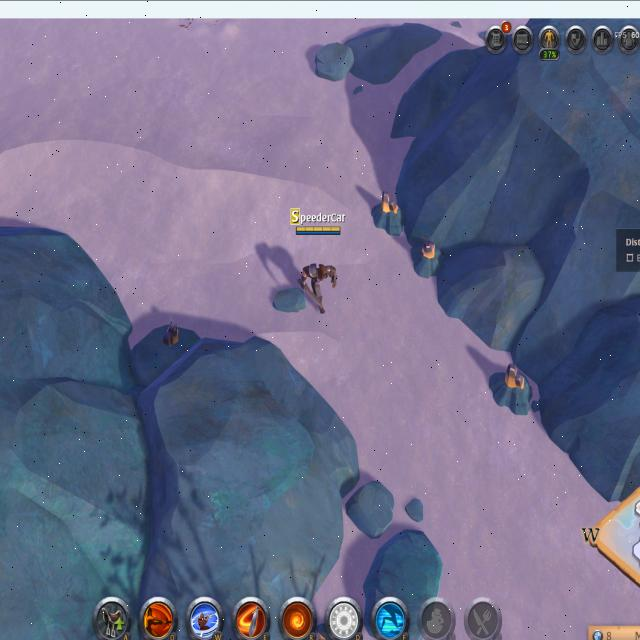copper: (489, 362, 536, 418), (370, 186, 403, 239), (156, 316, 186, 358), (412, 238, 442, 278)
